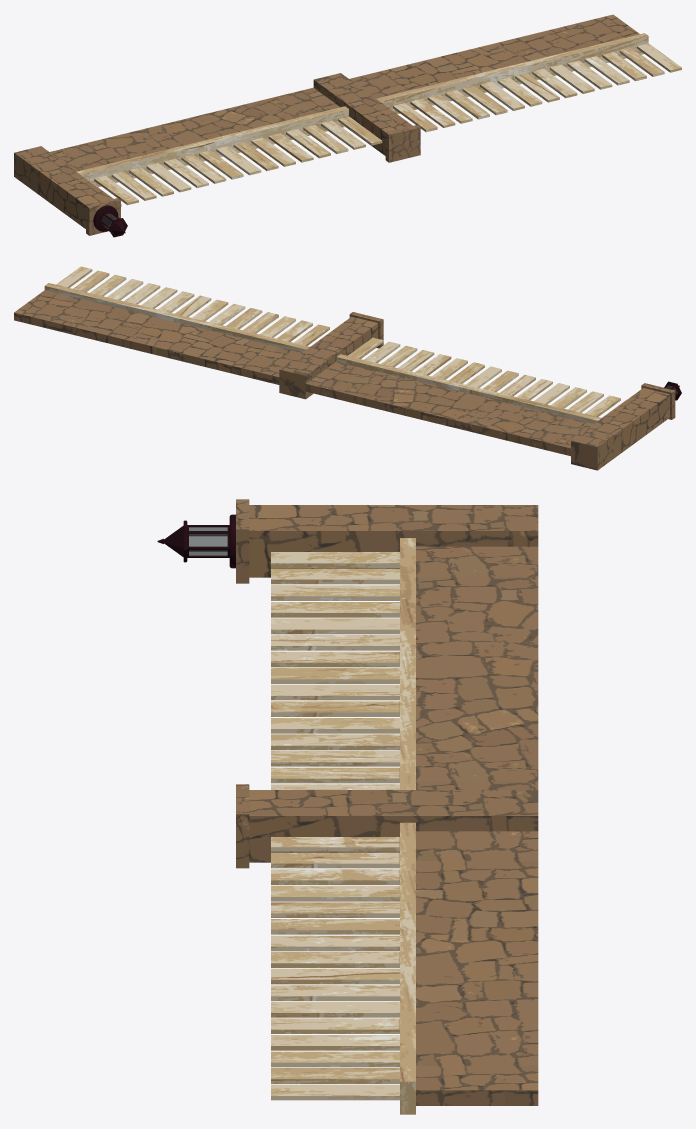
File: fence.fbx
3 views of the same model, one above another, from view 1: azimuth 30°, elevation 25°; view 2: azimuth 150°, elevation 25°; view 3: azimuth 270°, elevation 25° (orthographic). The views are drawn at different scales.
Visible parts, largest first — view 1: wood fence, stone fence, lantern; view 2: stone fence, wood fence; view 3: stone fence, wood fence, lantern.
Boxes of the visible parts, x1=… form: wood fence: x1=76, y1=33, x2=681, y2=206; stone fence: x1=14, y1=14, x2=639, y2=235; lantern: x1=93, y1=205, x2=127, y2=237; stone fence: x1=14, y1=290, x2=675, y2=470; wood fence: x1=44, y1=266, x2=626, y2=423; stone fence: x1=236, y1=499, x2=538, y2=1105; wood fence: x1=271, y1=538, x2=415, y2=1114; lantern: x1=157, y1=514, x2=235, y2=568.
Bounding box in the file's own units: 442 × 19.53 × 124.
Materials: 4 (2 with a texture image).
